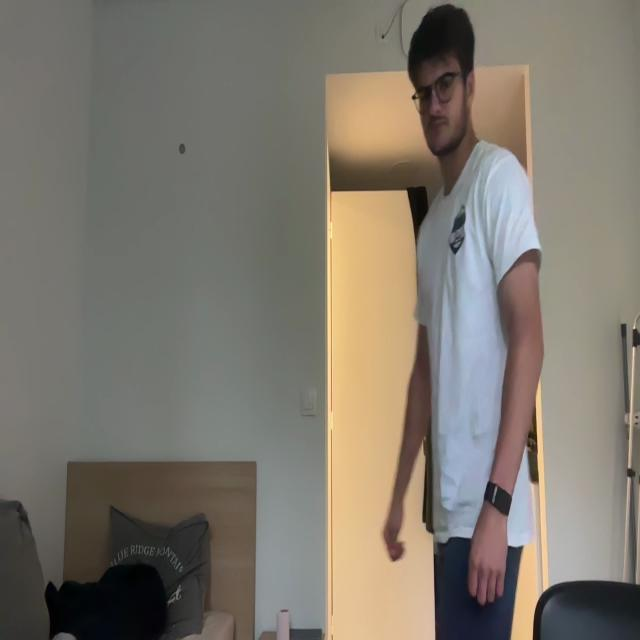elbow: (510, 333, 549, 372), (415, 358, 433, 392)
hand: (468, 501, 508, 604), (380, 490, 408, 561)
shoulder: (485, 158, 524, 240)
